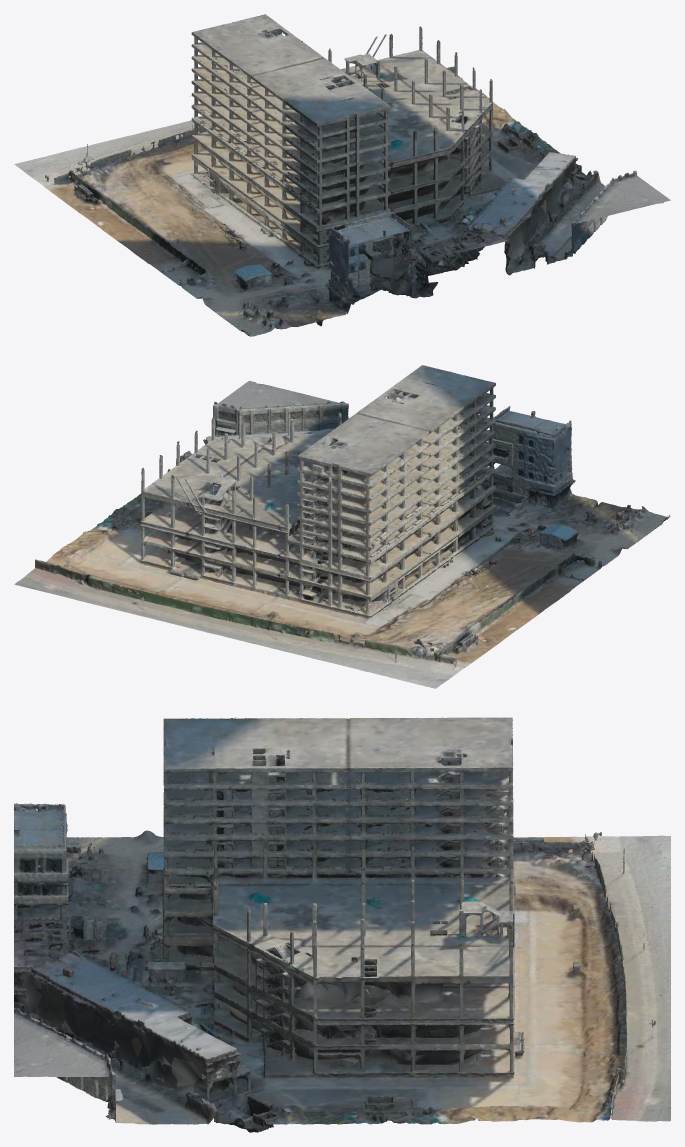
File: construction_site.glb
3 views of the same model, one above another, from view 1: azimuth 30°, elevation 25°; view 2: azimuth 150°, elevation 25°; view 3: azimuth 270°, elevation 25° (orthographic). The views are drawn at different scales.
Parts seen in each view (by area): view 1: Object_2; view 2: Object_2; view 3: Object_2.
Boxes of the visible parts, box(x1,y1,x2,y2) form: Object_2: box(14, 14, 670, 336); Object_2: box(14, 365, 670, 688); Object_2: box(14, 717, 670, 1132).
Size of the model in its own units: 231 by 85.53 by 223.
Materials: 1 (1 with a texture image).
